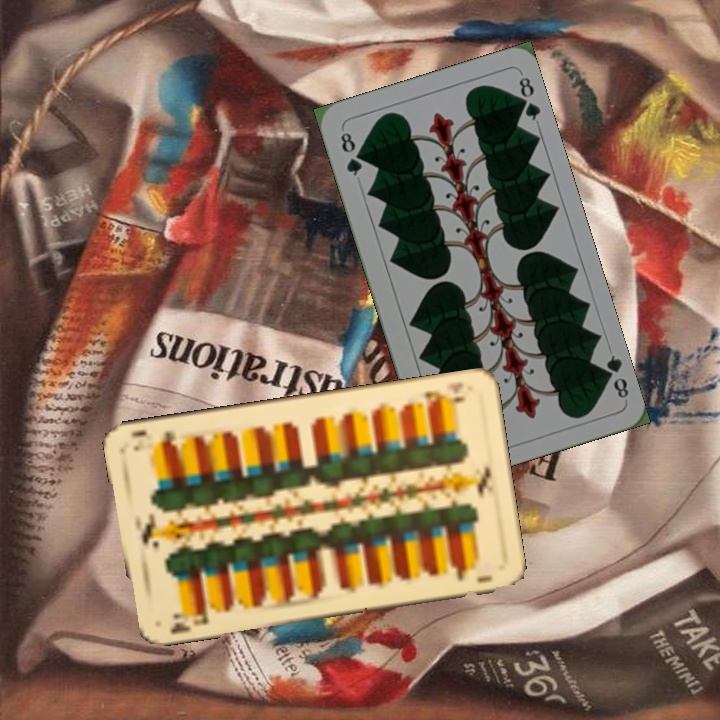E10: (166, 604, 212, 635), (420, 387, 469, 410)
G8: (596, 351, 632, 401), (336, 125, 365, 179)
